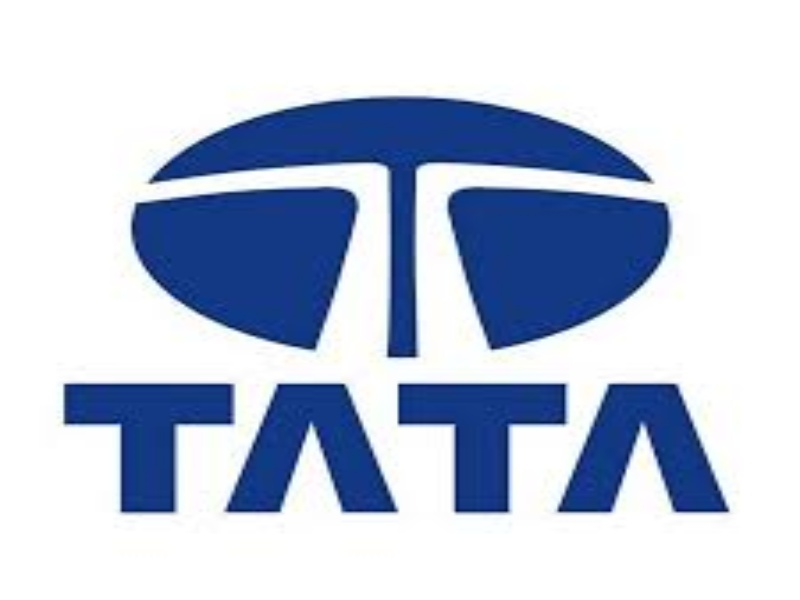tcs: (122, 97, 689, 361)
